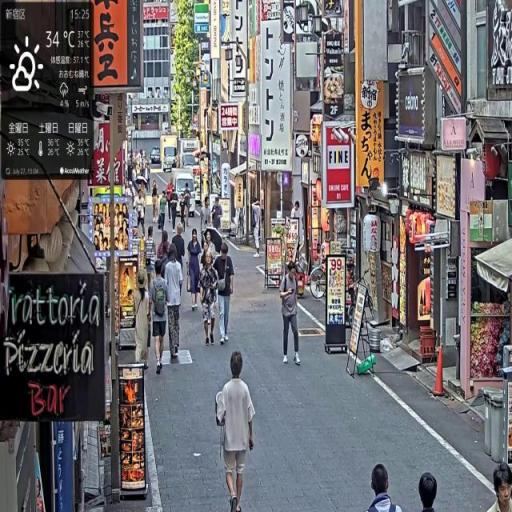person: (215, 348, 258, 512), (164, 244, 185, 364), (280, 260, 303, 366), (149, 260, 169, 377), (214, 240, 235, 344), (200, 249, 221, 345), (368, 464, 403, 512), (188, 229, 205, 312), (486, 465, 512, 512)
